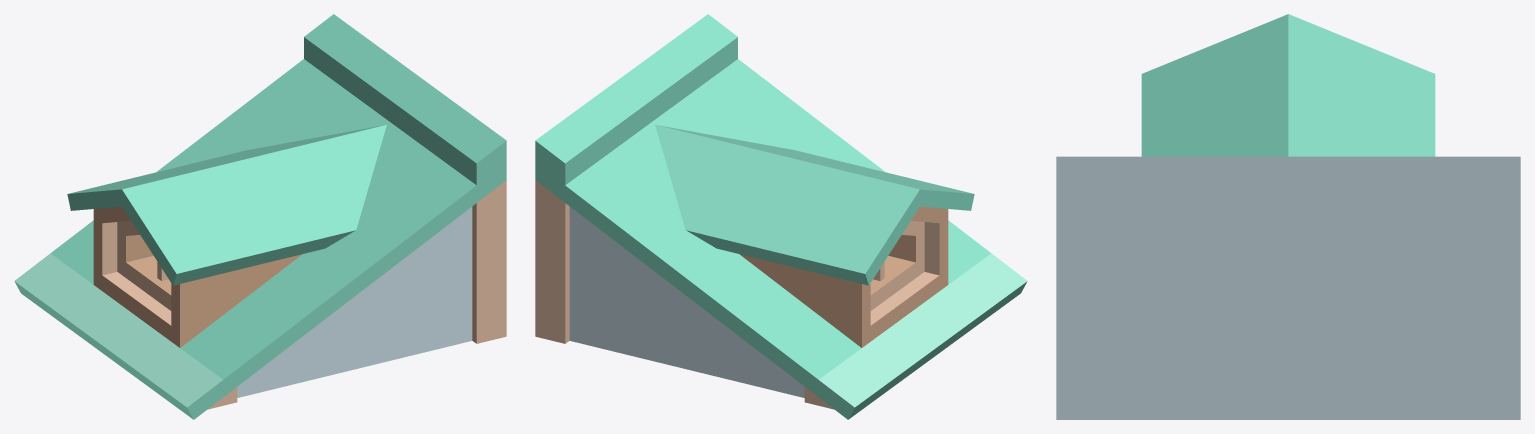
3 views of the same model, side by side, from view 1: azimuth 30°, elevation 25°; view 2: azimuth 150°, elevation 25°; view 3: azimuth 270°, elevation 25° (orthographic). The views are drawn at different scales.
Parts seen in each view (by area): view 1: roofWindow; view 2: roofWindow; view 3: roofWindow.
Boxes of the visible parts, left/top/right/bottom form: roofWindow: left=14, top=14, right=506, bottom=419; roofWindow: left=535, top=14, right=1027, bottom=419; roofWindow: left=1056, top=14, right=1520, bottom=419.
Bounding box in the file's own units: 1.07 × 0.6483 × 1.
